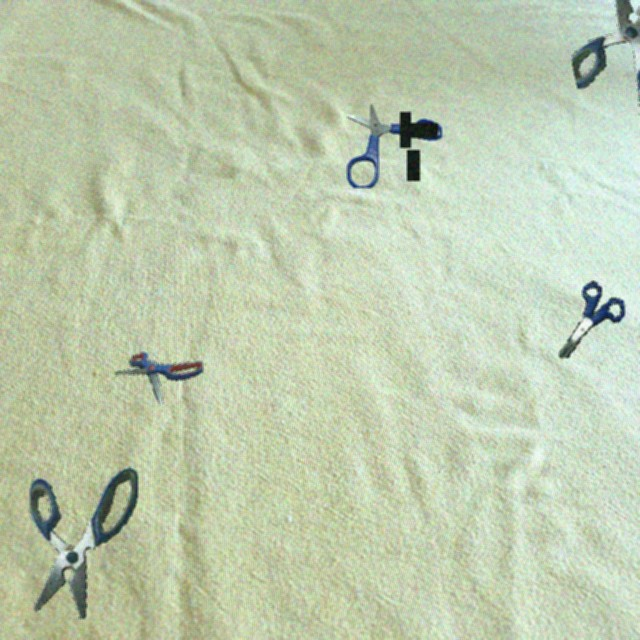scissors: (30, 467, 138, 619), (571, 0, 640, 134), (347, 103, 442, 188), (559, 281, 625, 358), (115, 351, 203, 405)
